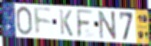7: (119, 11, 134, 42)
F: (75, 9, 95, 40), (33, 6, 53, 36)
K: (58, 9, 74, 38)
N: (97, 10, 118, 40)
O: (15, 6, 33, 36)
